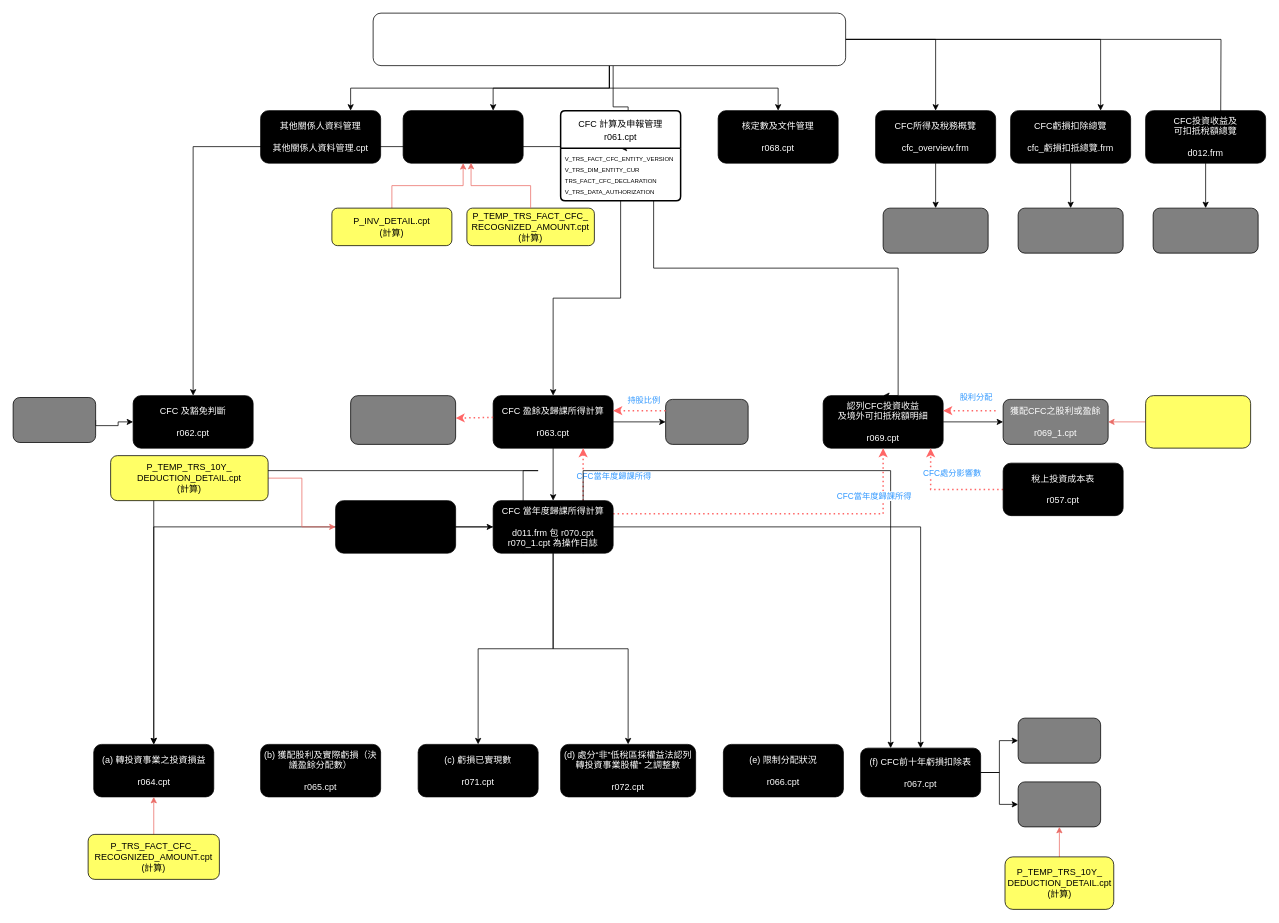
Some shapes in this 1279 by 923 pixel diagram are drawn without their labels. The centre of each missing label's shape, as x and y in pixels:
CFC 消極所得佔比計算 r062_1.cpt: (54,419)
cfc_loss_deducted.cpt (cfc_overview下方iframe): (1070,230)
cfc_summary.cpt (cfc_虧損扣抵總覽下方iframe): (935,230)
P_TEMP_TRS_FACT_ CFC_INV_INCOME3.cpt (計算): (1198,421)
r070.cpt: (395,526)
r073.cpt (d012匯出明細): (1205,230)
匯出計算（將所屬CFC公司盈虧表匯出） r074 .cpt: (403,419)
受控外國公司(CFC)管理模組: (609,39)
已扣除金額明細 r067_1.cpt: (1059,740)
直接持股比例計算 r063_1.cpt: (706,421)
認列CFC實際虧損（彌補虧損） pwc_r008.cpt: (1059,804)
集團投資關係管理 集團投資關係管理.cpt: (462,136)
